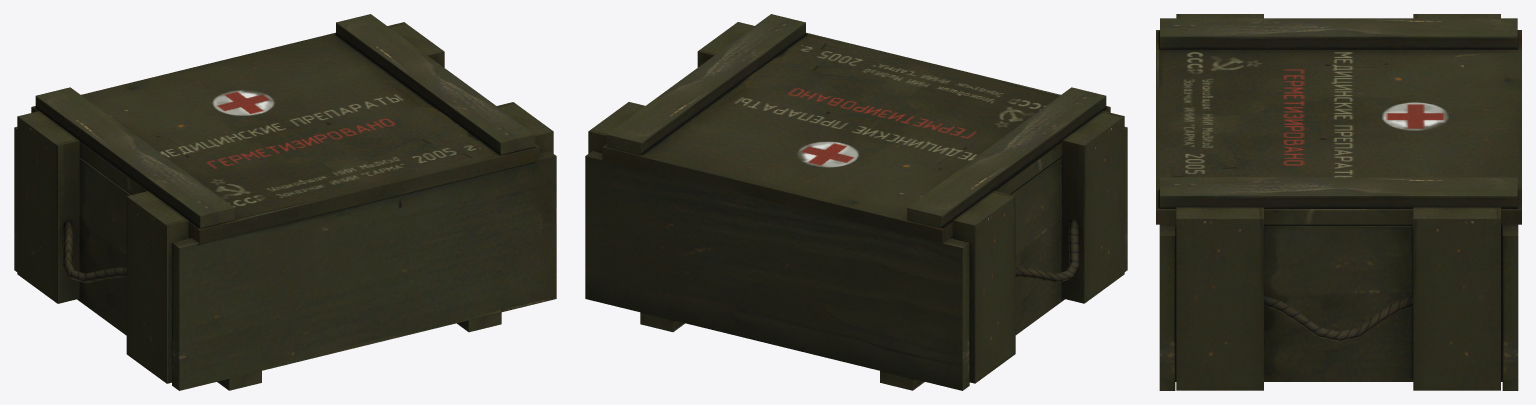
The model's file is minisovietboxdoc.fbx.
3 views of the same model, side by side, from view 1: azimuth 30°, elevation 25°; view 2: azimuth 150°, elevation 25°; view 3: azimuth 270°, elevation 25° (orthographic). The views are drawn at different scales.
Parts seen in each view (by area): view 1: minisovietboxdoc; view 2: minisovietboxdoc; view 3: minisovietboxdoc.
Part boxes in pixels (left/top/right/bottom): minisovietboxdoc: left=14, top=14, right=556, bottom=390; minisovietboxdoc: left=585, top=14, right=1127, bottom=390; minisovietboxdoc: left=1156, top=14, right=1521, bottom=390.
Bounding box in the file's own units: 3305 × 1324 × 2222.
